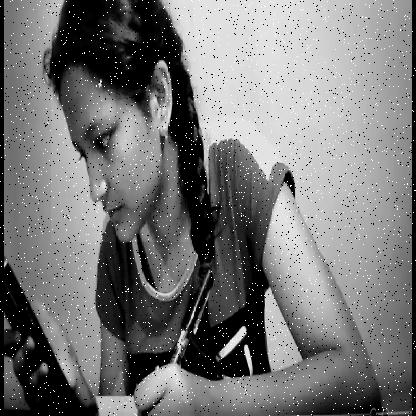Distracted: (51, 0, 193, 242)
